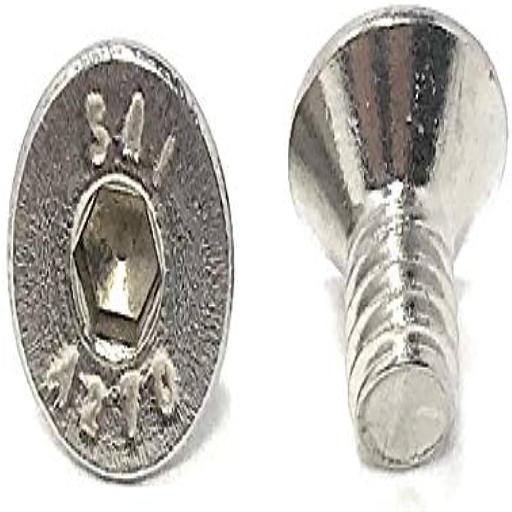Hex-Allen: (10, 46, 233, 480)
